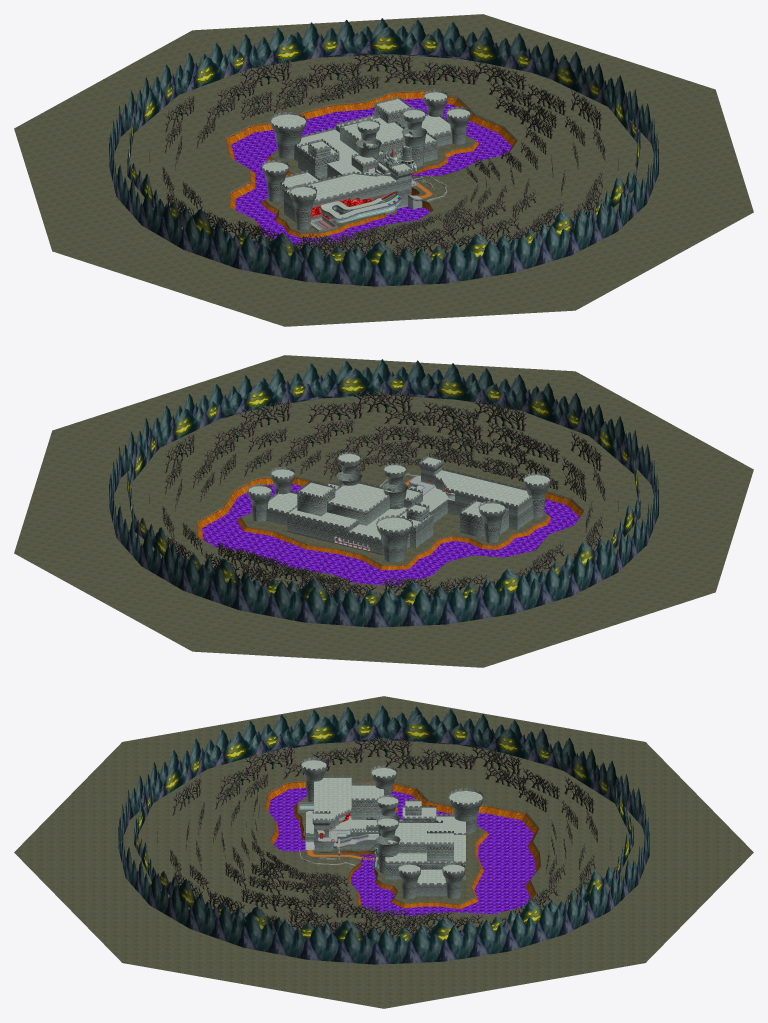
File: Bowser's Castle.fbx
3 renders of one model, top to bottom at view 1: azimuth 30°, elevation 25°; view 2: azimuth 150°, elevation 25°; view 3: azimuth 270°, elevation 25°, orthographic. The views are drawn at different scales.
Visible parts, largest first — view 1: bowserscastle:Group12, bowserscastle:Group10, bowserscastle:Group13, bowserscastle:Group14, bowserscastle:Group2, bowserscastle:Group16; view 2: bowserscastle:Group12, bowserscastle:Group10, bowserscastle:Group13, bowserscastle:Group14, bowserscastle:Group2; view 3: bowserscastle:Group12, bowserscastle:Group10, bowserscastle:Group14, bowserscastle:Group13, bowserscastle:Group2, bowserscastle:Group15.
Part boxes in pixels (x1,y1,x2,y2): bowserscastle:Group12: (14,14,753,326); bowserscastle:Group10: (109,18,658,286); bowserscastle:Group13: (261,89,470,230); bowserscastle:Group14: (231,98,511,245); bowserscastle:Group2: (262,92,469,218); bowserscastle:Group16: (310,193,401,231); bowserscastle:Group12: (14,355,753,667); bowserscastle:Group10: (109,359,658,627); bowserscastle:Group13: (247,452,550,562); bowserscastle:Group14: (202,484,579,586); bowserscastle:Group2: (248,454,549,550); bowserscastle:Group12: (14,696,753,1008); bowserscastle:Group10: (118,705,649,964); bowserscastle:Group14: (268,787,535,916); bowserscastle:Group13: (300,757,483,899); bowserscastle:Group2: (301,760,482,884); bowserscastle:Group15: (299,811,379,865).
Size of the model in its own units: 248 by 20.3 by 248.
18 materials, 18 textured.
